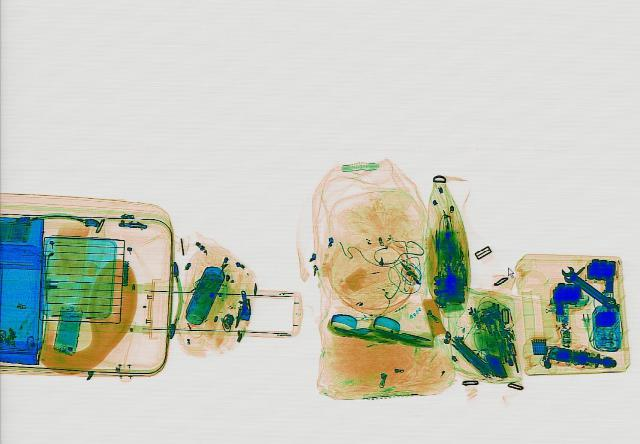Wrench: (556, 262, 620, 307), (561, 272, 617, 312)
